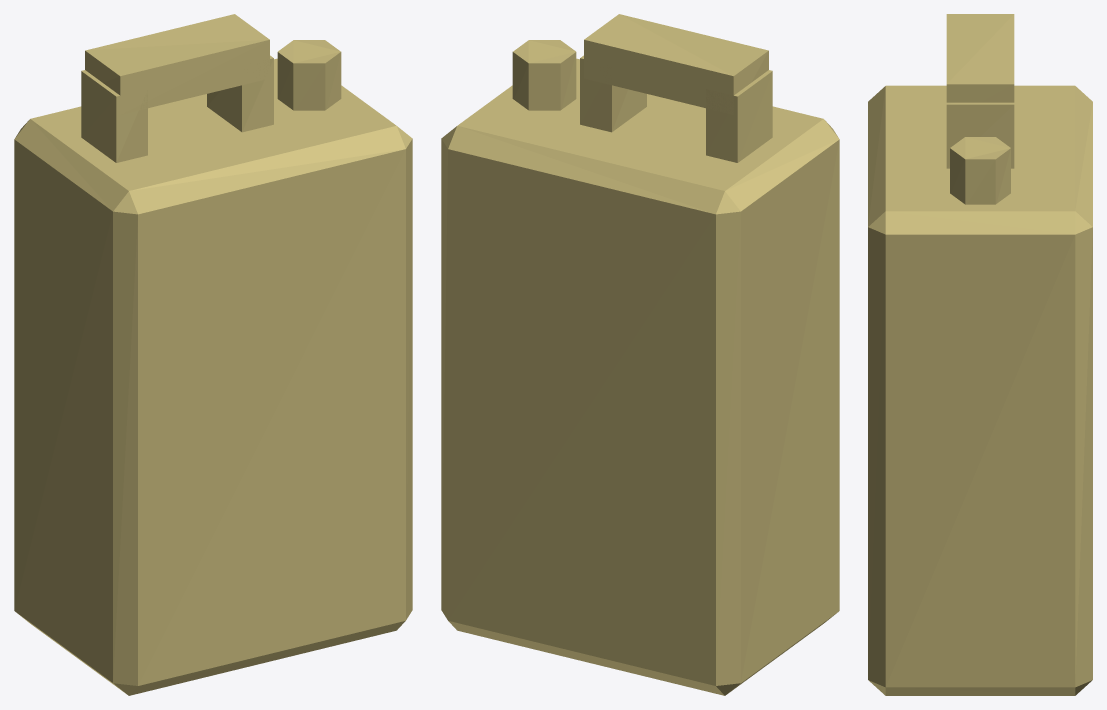
The model's file is jerrycan-00.glb.
The picture shows the model from 3 angles, left to right: view 1: azimuth 30°, elevation 25°; view 2: azimuth 150°, elevation 25°; view 3: azimuth 270°, elevation 25°; orthographic projection. The views are drawn at different scales.
Visible parts, largest first — view 1: jerrycan_00; view 2: jerrycan_00; view 3: jerrycan_00.
Part boxes in pixels (x1,y1,x2,y2): jerrycan_00: (14, 14, 412, 695); jerrycan_00: (441, 14, 839, 695); jerrycan_00: (868, 14, 1092, 695).
Size of the model in its own units: 0.2827 by 0.5328 by 0.1913.
